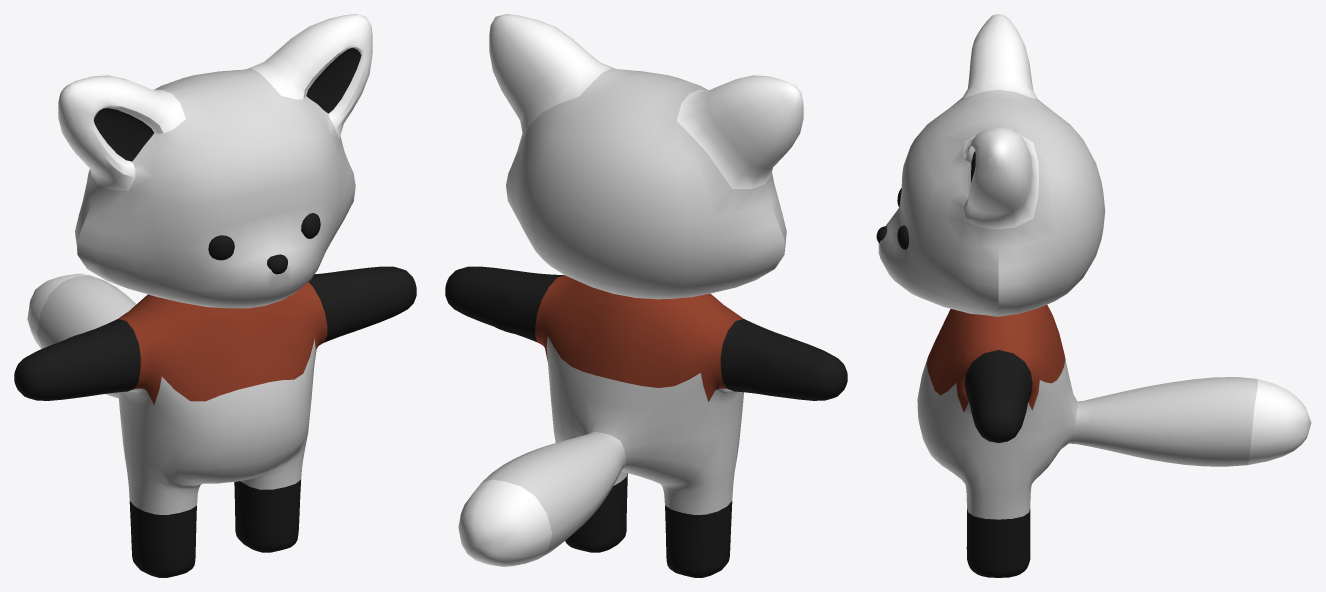
File: RedPanda_Character_materialer.glb
3 renders of one model, left to right at view 1: azimuth 30°, elevation 25°; view 2: azimuth 150°, elevation 25°; view 3: azimuth 270°, elevation 25°, orthographic. The views are drawn at different scales.
Visible parts, largest first — view 1: Head, Body, Eyes; view 2: Body, Head; view 3: Body, Head.
Boxes of the visible parts, x1,y1,x2,y2 form: Head: (58, 14, 372, 308); Body: (14, 266, 416, 577); Eyes: (208, 213, 320, 260); Body: (445, 266, 847, 577); Head: (489, 14, 803, 299); Body: (917, 304, 1311, 577); Head: (878, 14, 1105, 316).
Bounding box in the file's own units: 3.18 × 3.9 × 3.27.
